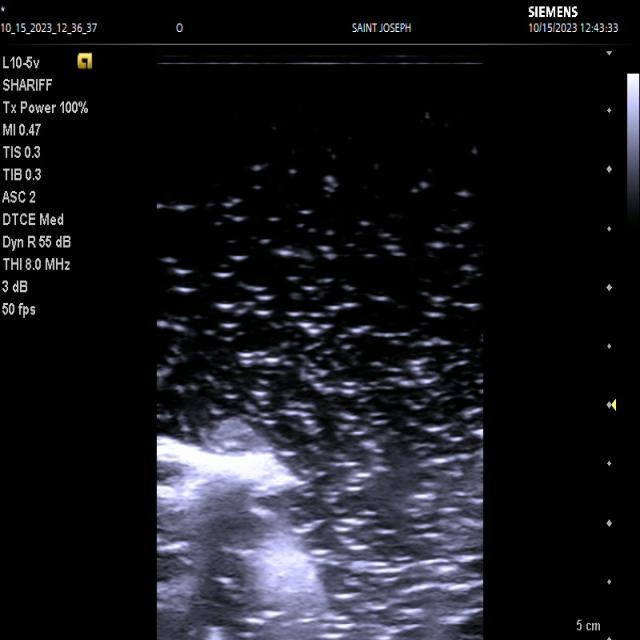tissue: (157, 435, 338, 640)
